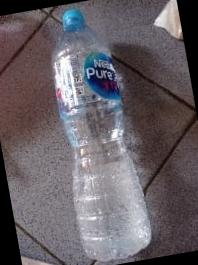Plastik: (51, 8, 151, 261)
